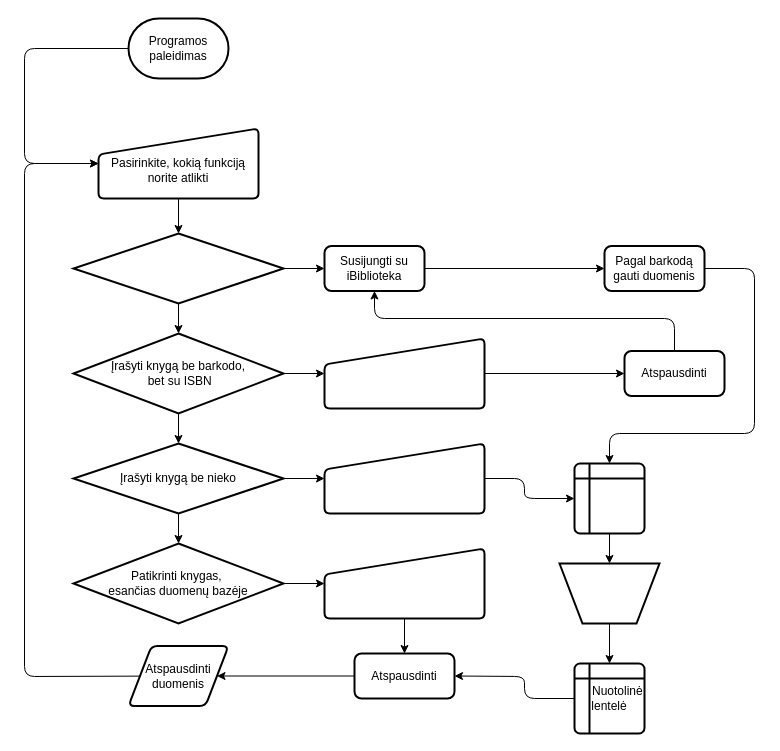
The diagram is 780 pixels wide and 751 high, and some of its shapes have lost their labels. The centre of each missing label's shape, as x and y in pixels:
"ISBN kodas" goes at pixel 404 583.
"Lokali lentelė" goes at pixel 609 498.
"Ranka nurašyti barkodą" goes at pixel 404 373.
"Ranka nurašyti duomenis" goes at pixel 404 478.
"į Google Sheets" goes at pixel 609 593.
"Įrašyti knygą su barkodu" goes at pixel 178 268.
